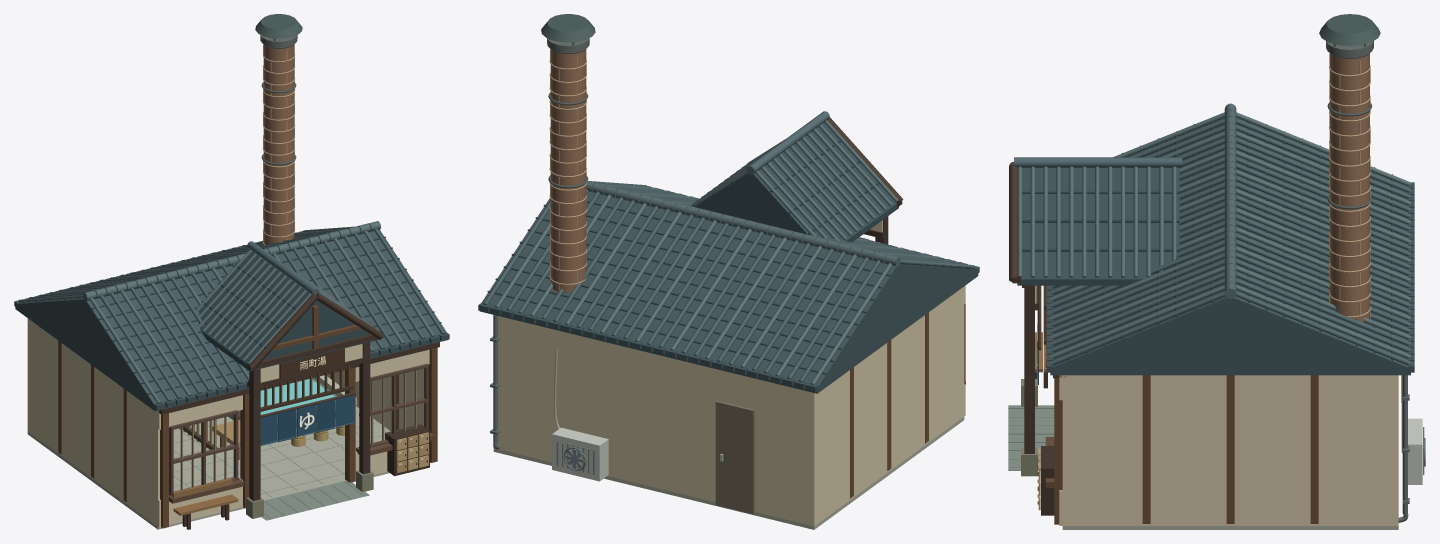
Rendered from sento.glb.
3 renders of one model, left to right at view 1: azimuth 30°, elevation 25°; view 2: azimuth 150°, elevation 25°; view 3: azimuth 270°, elevation 25°, orthographic. The views are drawn at different scales.
Parts seen in each view (by area): view 1: 钱汤澡堂; view 2: 钱汤澡堂; view 3: 钱汤澡堂.
Part boxes in pixels (x1,y1,x2,y2): 钱汤澡堂: (14, 14, 449, 529); 钱汤澡堂: (478, 14, 979, 529); 钱汤澡堂: (1008, 14, 1425, 529).
Bounding box in the file's own units: 7.81 × 9.4 × 7.45.
Materials: 61 (4 with a texture image).
